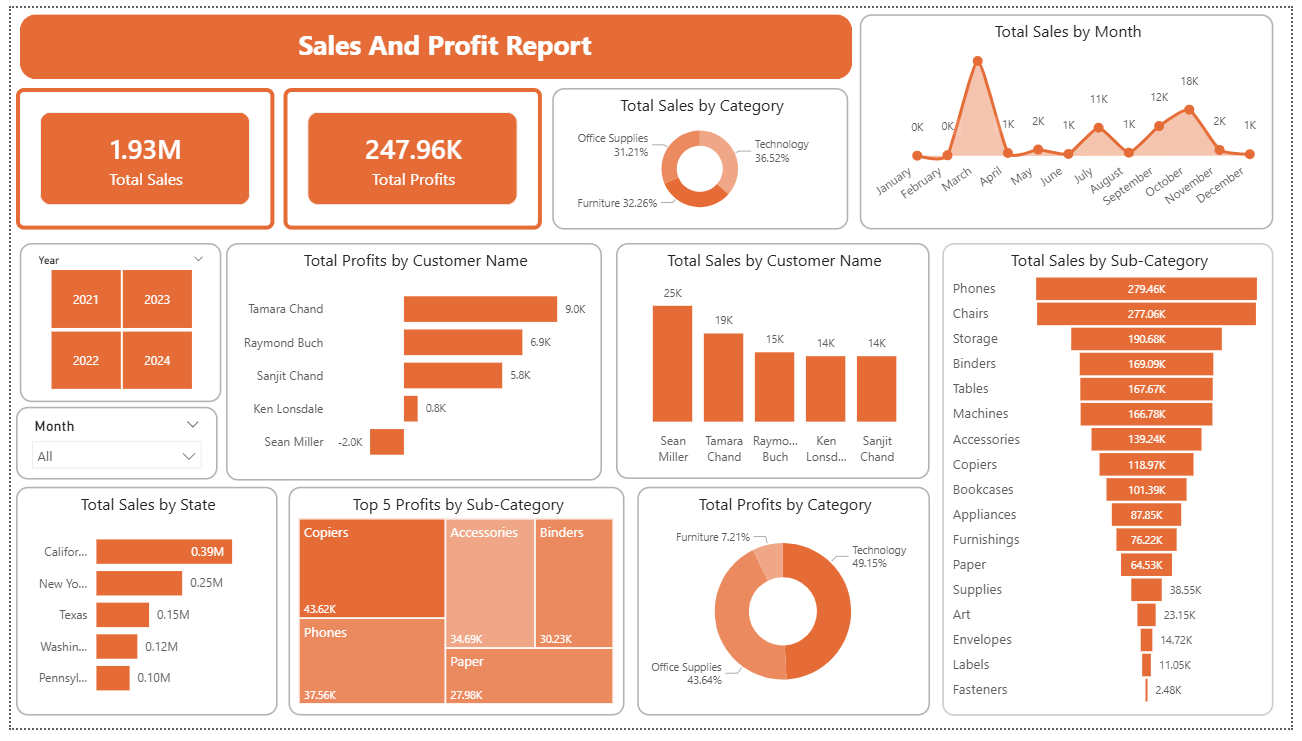

The dashboard page shown, as its layout file describes it:
{"tool":"powerbi","page":{"name":"Dashboard","canvas":[1280,720],"ordinal":0},"visuals":[{"type":"cardVisual","fields":{"Data":["Sales.Total Sales"]},"box":[5,80,258.8,141.2],"z":0},{"type":"donutChart","fields":{"Category":["Sales.Category"],"Y":["Sales.Total Sales"]},"box":[541.2,80,296.2,141.2],"z":1000},{"type":"funnel","fields":{"Category":["Sales.Sub-Category"],"Y":["Sales.Total Sales"]},"box":[931.2,235,331.2,472.5],"z":2000},{"type":"columnChart","fields":{"Category":["Sales.Customer Name"],"Y":["Sales.Total Sales"]},"box":[605,235,313.8,236.2],"z":3000},{"type":"lineChart","fields":{"Category":["Sales.Order Date.Variation.Date Hierarchy.Month"],"Y":["Sales.Total Sales"]},"box":[848.8,6.2,413.8,215],"z":4000},{"type":"clusteredBarChart","fields":{"Category":["Sales.State"],"Y":["Sales.Total Sales"]},"box":[5,478.8,261.2,228.8],"z":5000},{"type":"cardVisual","fields":{"Data":["Sales.Total Profits"]},"box":[272.5,80,258.8,141.2],"z":6000},{"type":"clusteredBarChart","fields":{"Category":["Sales.Customer Name"],"Y":["Sales.Total Profits"]},"box":[215,235,376.2,237.5],"z":7000},{"type":"slicer","fields":{"Values":["Sales.Year"]},"box":[8.6,234.8,201.8,159],"z":8000},{"type":"slicer","fields":{"Values":["Sales.Order Date.Variation.Date Hierarchy.Month"]},"box":[5,398.8,201.2,72.5],"z":9000},{"type":"treemap","title":"Top 5 Profits by Sub-Category","fields":{"Group":["Sales.Sub-Category"],"Values":["Sales.Total Profits"]},"box":[277.5,478.8,336.2,228.8],"z":10000},{"type":"donutChart","fields":{"Category":["Sales.Category"],"Y":["Sales.Total Profits"]},"box":[626.2,478.8,292.5,228.8],"z":11000},{"type":"shape","box":[8.8,6.2,832.5,65],"z":12000},{"type":"textbox","box":[272.5,13.8,322.5,51.2],"z":13000}]}

Visuals, with their boxes in screenshot pixels (x1, y1, x2, y2), scaled from the page's 1280x720 canvas onto the 1302x741 screenshot:
cardVisual - Sales.Total Sales: (x1=5, y1=82, x2=268, y2=228)
donutChart - Sales.Category x Sales.Total Sales: (x1=551, y1=82, x2=852, y2=228)
funnel - Sales.Sub-Category x Sales.Total Sales: (x1=947, y1=242, x2=1284, y2=728)
columnChart - Sales.Customer Name x Sales.Total Sales: (x1=615, y1=242, x2=935, y2=485)
lineChart - Sales.Order Date.Variation.Date Hierarchy.Month x Sales.Total Sales: (x1=863, y1=6, x2=1284, y2=228)
clusteredBarChart - Sales.State x Sales.Total Sales: (x1=5, y1=493, x2=271, y2=728)
cardVisual - Sales.Total Profits: (x1=277, y1=82, x2=540, y2=228)
clusteredBarChart - Sales.Customer Name x Sales.Total Profits: (x1=219, y1=242, x2=601, y2=486)
slicer - Sales.Year: (x1=9, y1=242, x2=214, y2=405)
slicer - Sales.Order Date.Variation.Date Hierarchy.Month: (x1=5, y1=410, x2=210, y2=485)
"Top 5 Profits by Sub-Category" treemap: (x1=282, y1=493, x2=624, y2=728)
donutChart - Sales.Category x Sales.Total Profits: (x1=637, y1=493, x2=934, y2=728)
shape: (x1=9, y1=6, x2=856, y2=73)
textbox: (x1=277, y1=14, x2=605, y2=67)
